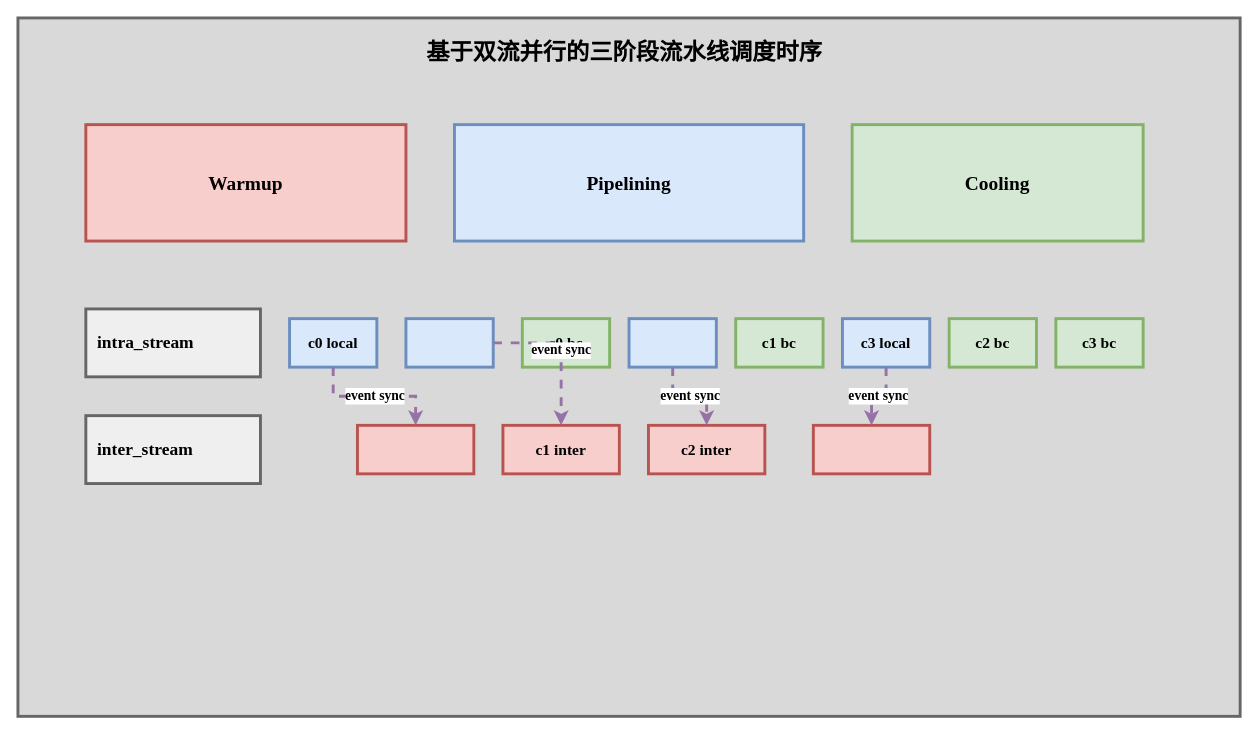
Image size: 1258x734. Some labels were removed from this diagram. The centre of each missing label's shape, as x and y in pixels:
c0 inter: [415,449]
c1 local: [449,342]
c2 local: [672,342]
c3 inter: [871,449]
